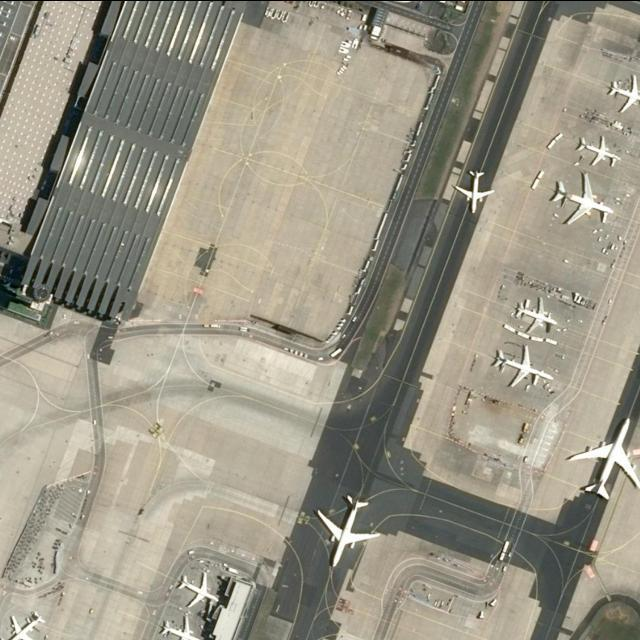Aircraft: (566, 414, 639, 500), (568, 413, 639, 499), (314, 490, 380, 567), (314, 491, 380, 566), (553, 171, 613, 225), (553, 172, 613, 226), (494, 343, 554, 388), (493, 344, 553, 388), (454, 164, 496, 212), (514, 293, 562, 335), (452, 166, 495, 212), (176, 568, 220, 609), (179, 569, 221, 611), (514, 294, 558, 333), (576, 131, 622, 166), (0, 606, 45, 640), (0, 608, 45, 640), (580, 132, 620, 166), (606, 73, 639, 113), (608, 71, 638, 114), (158, 612, 204, 640), (160, 615, 202, 640)
